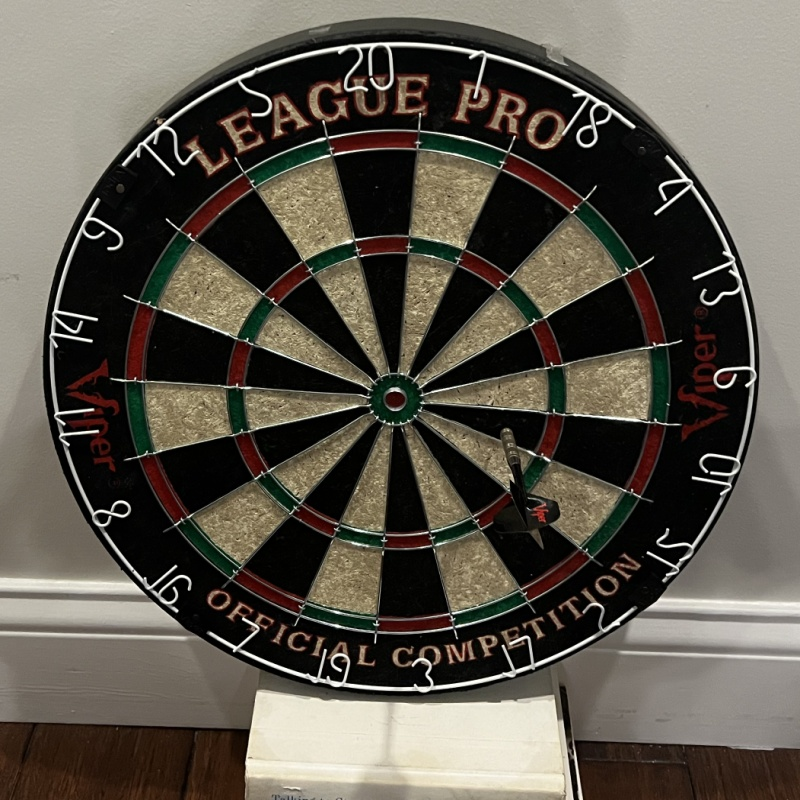dart: (499, 423, 518, 443)
eleven: (53, 408, 100, 446)
six: (710, 365, 758, 391)
three: (411, 657, 436, 695)
twenty: (338, 40, 397, 94)
